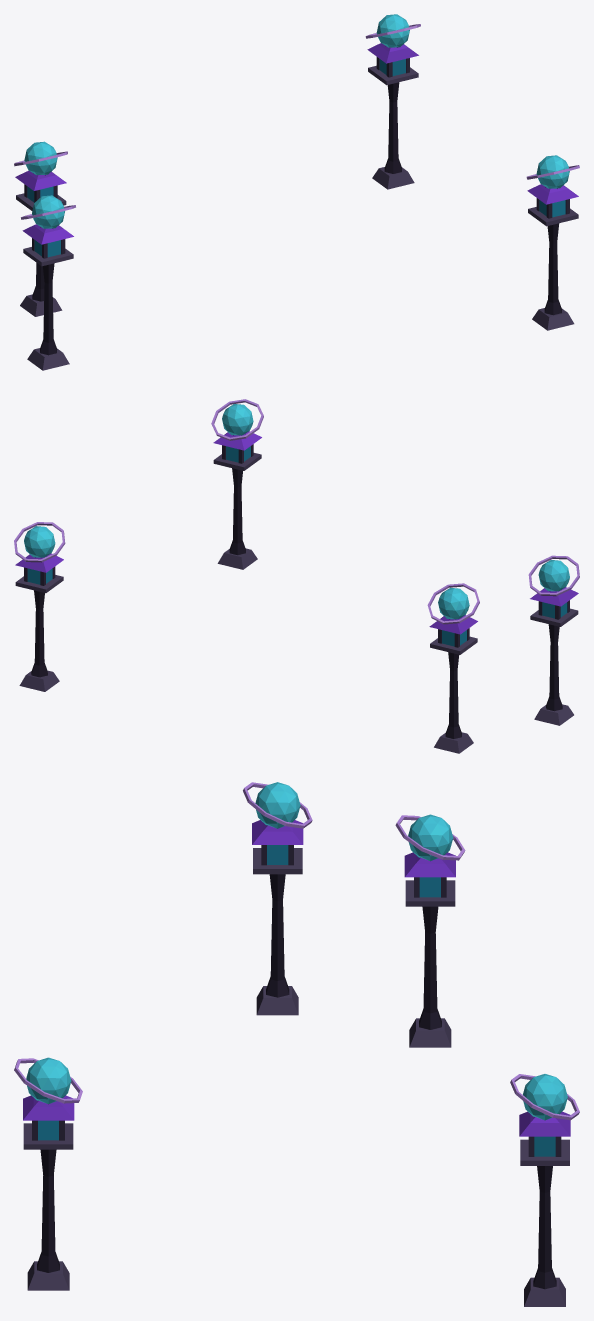
The model's file is Decor_VoidPortal_Lanterns.fbx.
3 views of the same model, one above another, from view 1: azimuth 30°, elevation 25°; view 2: azimuth 150°, elevation 25°; view 3: azimuth 270°, elevation 25° (orthographic). The views are drawn at different scales.
Parts seen in each view (by area): view 1: Lanterns_Body; view 2: Lanterns_Body; view 3: Lanterns_Body.
Boxes of the visible parts, left/top/right/bottom form: Lanterns_Body: left=14, top=14, right=579, bottom=370; Lanterns_Body: left=14, top=399, right=579, bottom=753; Lanterns_Body: left=14, top=782, right=579, bottom=1306.
Size of the model in its own units: 38.6 by 12.4 by 28.6.
